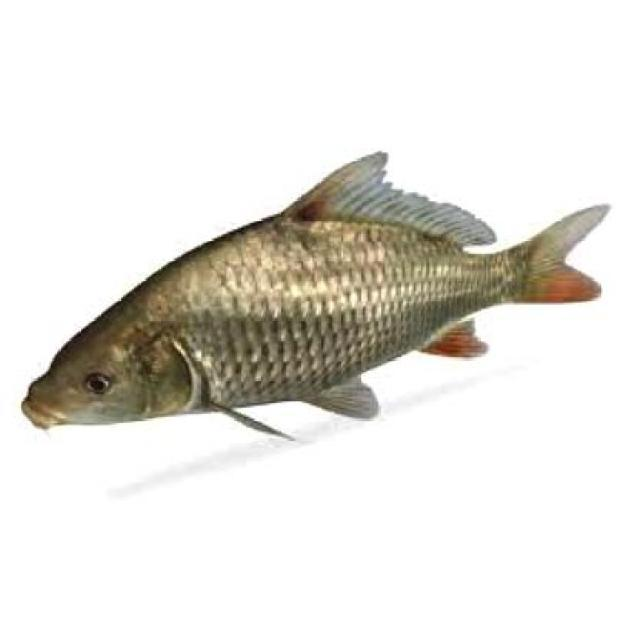ikan-mas: (15, 152, 608, 446)
